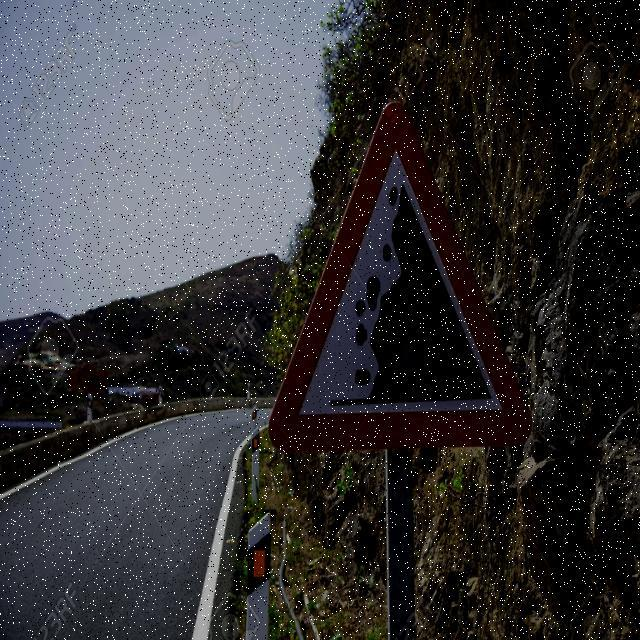Traffic sign: (265, 96, 537, 459)
